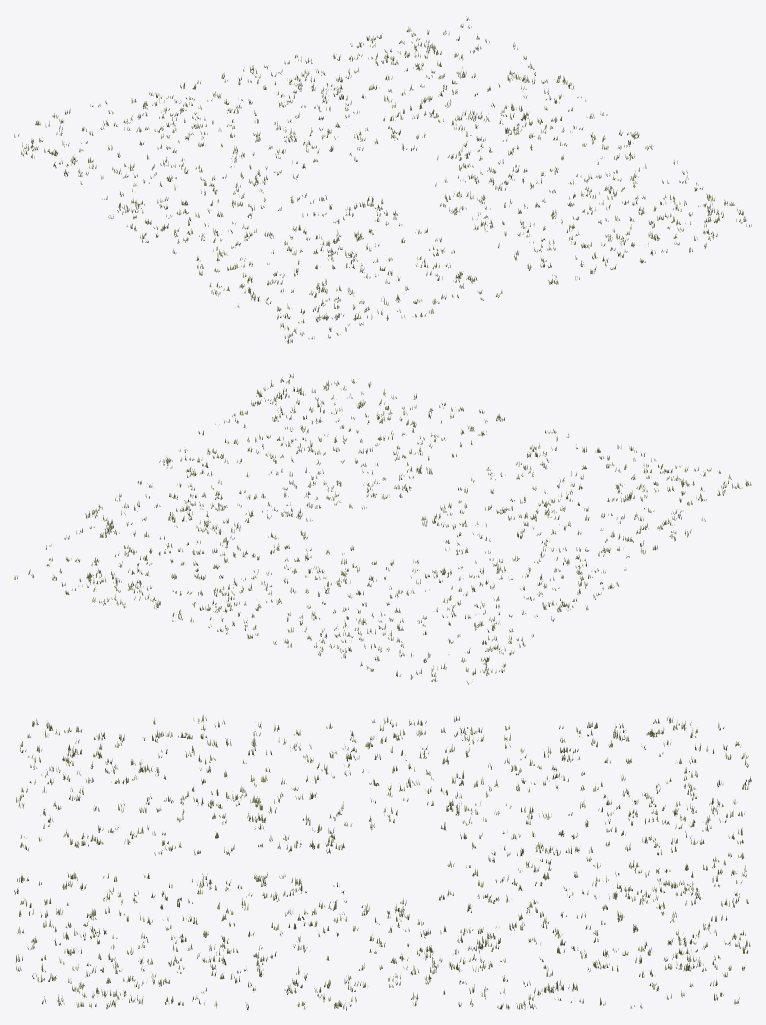
The model's file is Dry_Grass.glb.
3 views of the same model, one above another, from view 1: azimuth 30°, elevation 25°; view 2: azimuth 150°, elevation 25°; view 3: azimuth 270°, elevation 25° (orthographic). The views are drawn at different scales.
Parts seen in each view (by area): view 1: Dry_Grass; view 2: Dry_Grass; view 3: Dry_Grass.
Boxes of the visible parts, x1,y1,x2,y2 form: Dry_Grass: (14, 16, 751, 343); Dry_Grass: (14, 373, 751, 684); Dry_Grass: (14, 714, 751, 1010).
Bounding box in the file's own units: 52.4 × 0.625 × 56.3.
